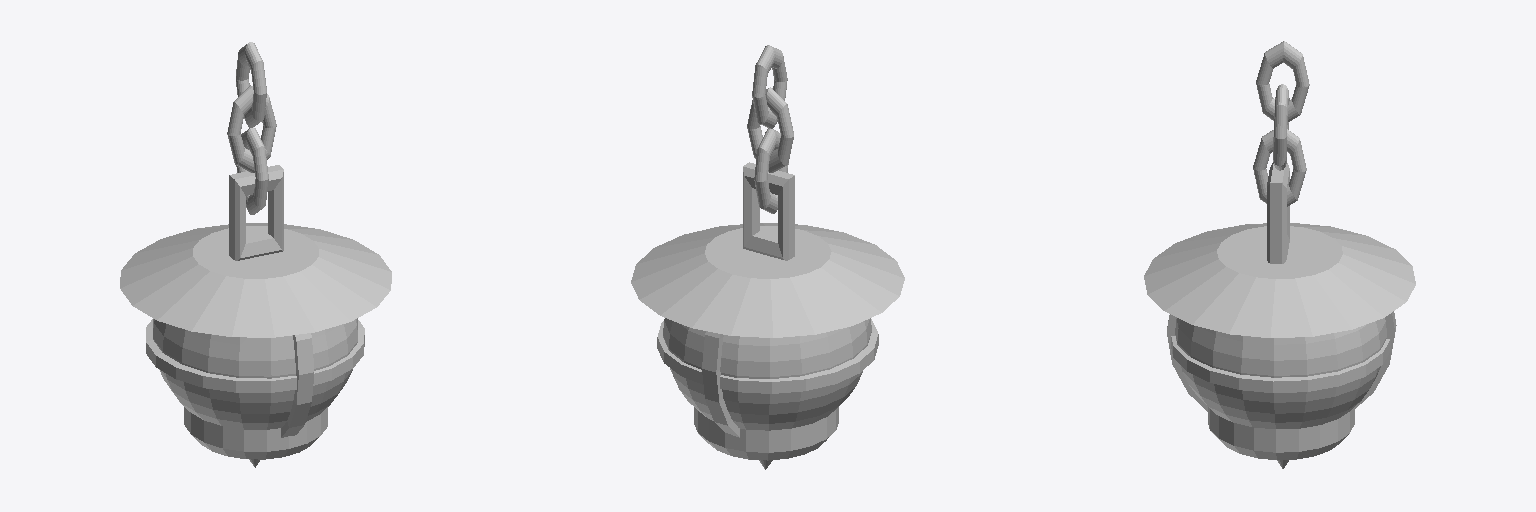
The model's file is lanternLP.obj.
3 renders of one model, left to right at view 1: azimuth 30°, elevation 25°; view 2: azimuth 150°, elevation 25°; view 3: azimuth 270°, elevation 25°, orthographic.
Parts seen in each view (by area): view 1: lanternLP:default1; view 2: lanternLP:default1; view 3: lanternLP:default1.
Part boxes in pixels (left/top/right/bottom): lanternLP:default1: left=120, top=42, right=391, bottom=467; lanternLP:default1: left=631, top=45, right=904, bottom=469; lanternLP:default1: left=1144, top=41, right=1415, bottom=468.
Bounding box in the file's own units: 0.9885 × 1.7 × 0.9819.